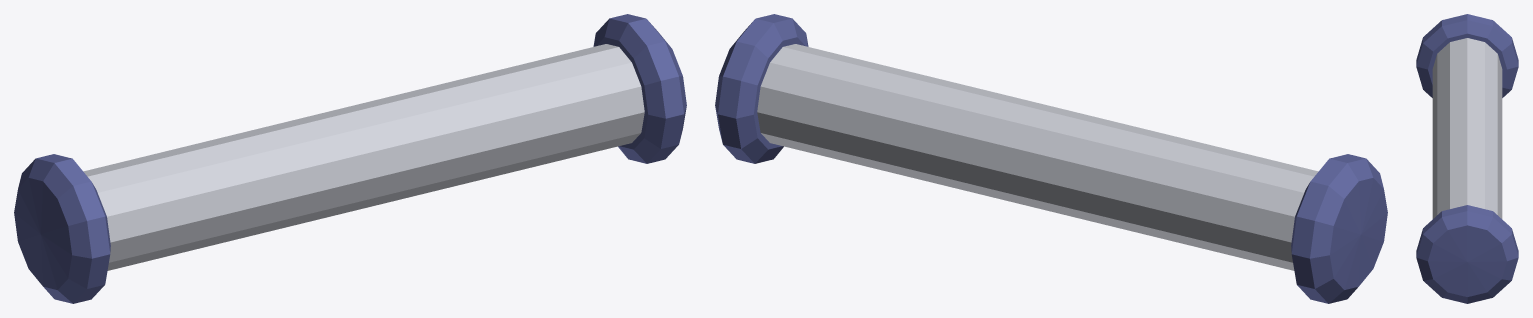
The model's file is roller_luna.glb.
3 renders of one model, left to right at view 1: azimuth 30°, elevation 25°; view 2: azimuth 150°, elevation 25°; view 3: azimuth 270°, elevation 25°, orthographic. The views are drawn at different scales.
Visible parts, largest first — view 1: luna_roller; view 2: luna_roller; view 3: luna_roller.
Boxes of the visible parts, x1,y1,x2,y2 form: luna_roller: (14,14,686,303); luna_roller: (715,14,1387,303); luna_roller: (1416,14,1518,303).
Bounding box in the file's own units: 0.272 × 0.0572 × 0.0572.
